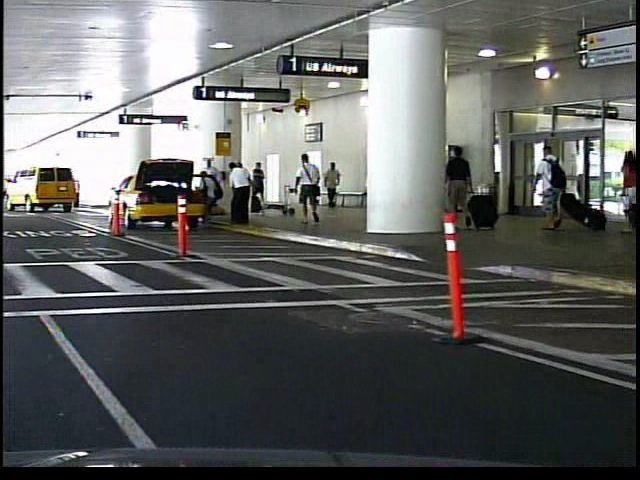person: (525, 142, 566, 235), (608, 145, 640, 231), (444, 140, 472, 230), (289, 151, 322, 226), (321, 159, 340, 210)
